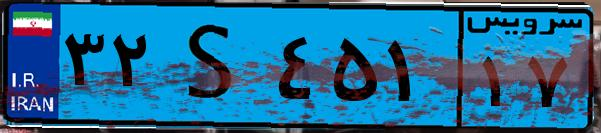1: (385, 28, 445, 110), (475, 38, 525, 113)
2: (110, 28, 158, 98)
3: (57, 26, 110, 100)
4: (270, 28, 330, 110)
5: (330, 28, 385, 110)
7: (525, 38, 570, 115)
S: (158, 12, 270, 120)
